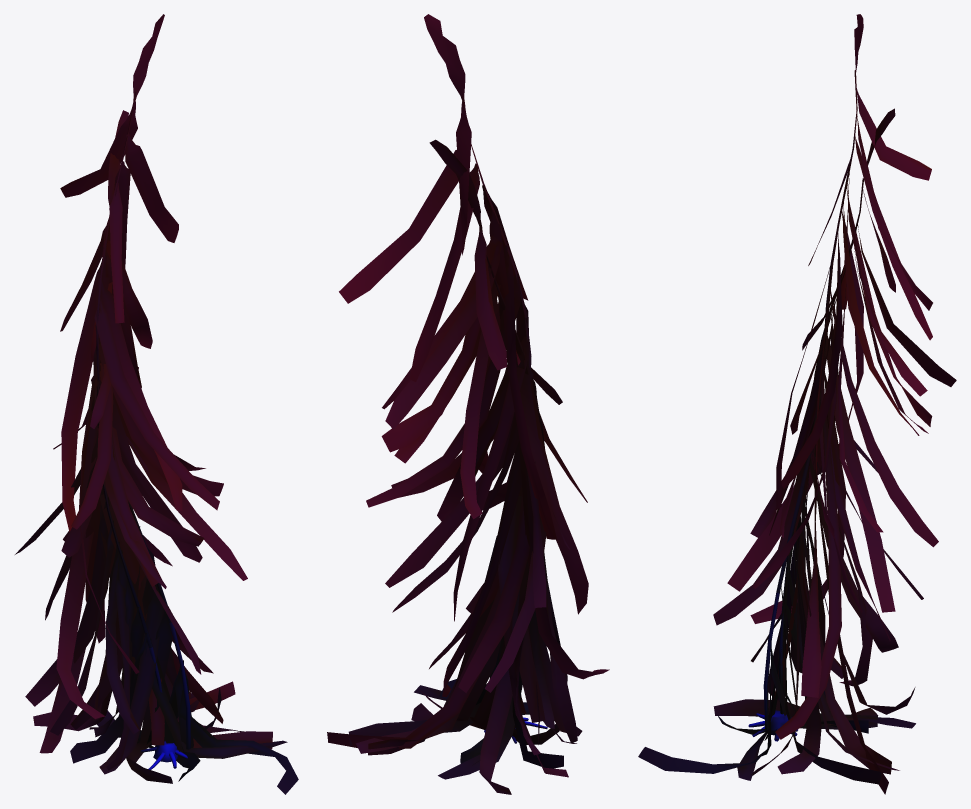
The model's file is MESH_Flora_Kelp_s4024_q100.fbx.
The picture shows the model from 3 angles, left to right: view 1: azimuth 30°, elevation 25°; view 2: azimuth 150°, elevation 25°; view 3: azimuth 270°, elevation 25°; orthographic projection. The views are drawn at different scales.
Visible parts, largest first — view 1: MESH_Flora_Kelp_s4024_q100_LOD0; view 2: MESH_Flora_Kelp_s4024_q100_LOD0; view 3: MESH_Flora_Kelp_s4024_q100_LOD0.
Part boxes in pixels (<box>): MESH_Flora_Kelp_s4024_q100_LOD0: <box>15,14,298,794</box>; MESH_Flora_Kelp_s4024_q100_LOD0: <box>327,14,609,794</box>; MESH_Flora_Kelp_s4024_q100_LOD0: <box>638,14,956,794</box>.
Size of what is drawn, in the model's own units: 245 by 774 by 302.
